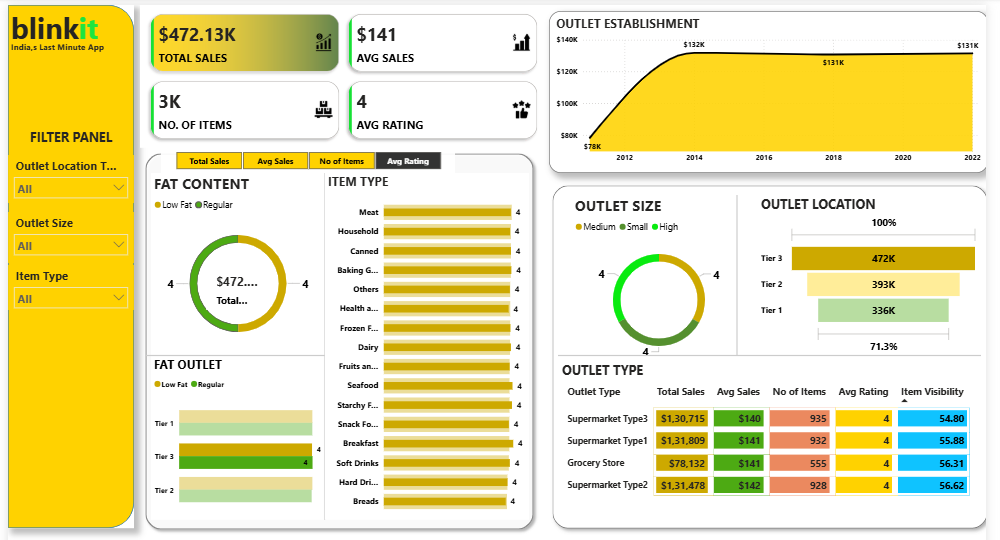

This screenshot's page, from the dashboard's own definition file:
{"tool":"powerbi","page":{"name":"Blinkit ","canvas":[1630,920],"ordinal":0},"visuals":[{"type":"shape","box":[0,0,210,871.7],"z":0},{"type":"textbox","box":[254.4,508.8,184.1,67.3],"z":1000},{"type":"textbox","box":[0,0,163.9,74.8],"z":2000},{"type":"textbox","box":[0,55.7,184.6,38.2],"z":3000},{"type":"cardVisual","fields":{"Data":["BlinkIT Grocery Data.Total Sales","BlinkIT Grocery Data.Avg Sales","BlinkIT Grocery Data.No of Items","BlinkIT Grocery Data.Avg Rating"]},"box":[220,0,681.7,238.3],"z":4000},{"type":"textbox","box":[239,576,574,174],"z":5000},{"type":"textbox","box":[239,576,574,174],"z":6000},{"type":"textbox","box":[239,576,574,174],"z":7000},{"type":"shape","box":[220,238.3,665,645],"z":8000},{"type":"donutChart","title":" FAT CONTENT","fields":{"Y":["BlinkIT Grocery Data.Avg Rating"],"Category":["BlinkIT Grocery Data.Item Fat Content"]},"box":[238.3,280,290,305],"z":9000},{"type":"slicer","fields":{"Values":["Metrics.Metrics"]},"box":[255,238.3,490,41.7],"z":10000},{"type":"cardVisual","fields":{"Data":["BlinkIT Grocery Data.Total Sales"]},"box":[330,430,105,78.3],"z":11000},{"type":"clusteredBarChart","title":"FAT OUTLET","fields":{"Y":["BlinkIT Grocery Data.Avg Rating"],"Category":["BlinkIT Grocery Data.Outlet Location Type"],"Series":["BlinkIT Grocery Data.Item Fat Content"]},"box":[238.3,585,288.3,273.3],"z":12000},{"type":"shape","box":[230,546.7,298.3,75],"z":13000},{"type":"shape","box":[476.7,280,103.3,578.3],"z":14000},{"type":"barChart","title":"ITEM TYPE","fields":{"Y":["BlinkIT Grocery Data.Avg Rating"],"Category":["BlinkIT Grocery Data.Item Type"]},"box":[528.3,280,340,578.3],"z":15000},{"type":"lineChart","title":" OUTLET ESTABLISHMENT","fields":{"Y":["BlinkIT Grocery Data.Total Sales"],"Category":["BlinkIT Grocery Data.Outlet Establishment Year"]},"box":[901.7,10,731.7,270],"z":16000},{"type":"shape","box":[896.7,290,746.7,593.3],"z":17000},{"type":"donutChart","title":"OUTLET SIZE","fields":{"Y":["BlinkIT Grocery Data.Avg Rating"],"Category":["BlinkIT Grocery Data.Outlet Size"]},"box":[940,316.7,290,286.7],"z":18000},{"type":"shape","box":[1163.3,316.7,103.3,268.3],"z":19000},{"type":"funnel","title":" OUTLET LOCATION","fields":{"Y":["Sum(BlinkIT Grocery Data.Sales)"],"Category":["BlinkIT Grocery Data.Outlet Location Type"]},"box":[1250,316.7,371.7,270],"z":20000},{"type":"pivotTable","title":"OUTLET TYPE","fields":{"Rows":["BlinkIT Grocery Data.Outlet Type"],"Values":["BlinkIT Grocery Data.Total Sales","BlinkIT Grocery Data.Avg Sales","BlinkIT Grocery Data.No of Items","BlinkIT Grocery Data.Avg Rating","Sum(BlinkIT Grocery Data.Item Visibility)"]},"box":[918.3,593.3,703.3,255],"z":21000},{"type":"shape","box":[916.7,546.7,705,75],"z":22000},{"type":"slicer","fields":{"Values":["BlinkIT Grocery Data.Outlet Location Type"]},"box":[0,250,210,80],"z":23000},{"type":"slicer","fields":{"Values":["BlinkIT Grocery Data.Outlet Size"]},"box":[0,345,210,85],"z":24000},{"type":"slicer","fields":{"Values":["BlinkIT Grocery Data.Item Type"]},"box":[0,433.3,210,75],"z":25000},{"type":"textbox","box":[1644,10,236,270],"z":26000},{"type":"textbox","box":[31.7,200,155,38.3],"z":27000}]}

Visuals, with their boxes on the page's 1630x920 design canvas (x1, y1, x2, y2). These are canvas units, not pixel positions in the 1000x540 screenshot, which may show the page scaled, cropped or inside an application window:
shape: l=0, t=0, r=210, b=872
textbox: l=254, t=509, r=438, b=576
textbox: l=0, t=0, r=164, b=75
textbox: l=0, t=56, r=185, b=94
cardVisual - BlinkIT Grocery Data.Total Sales x BlinkIT Grocery Data.Avg Sales: l=220, t=0, r=902, b=238
textbox: l=239, t=576, r=813, b=750
textbox: l=239, t=576, r=813, b=750
textbox: l=239, t=576, r=813, b=750
shape: l=220, t=238, r=885, b=883
" FAT CONTENT" donutChart: l=238, t=280, r=528, b=585
slicer - Metrics.Metrics: l=255, t=238, r=745, b=280
cardVisual - BlinkIT Grocery Data.Total Sales: l=330, t=430, r=435, b=508
"FAT OUTLET" clusteredBarChart: l=238, t=585, r=527, b=858
shape: l=230, t=547, r=528, b=622
shape: l=477, t=280, r=580, b=858
"ITEM TYPE" barChart: l=528, t=280, r=868, b=858
" OUTLET ESTABLISHMENT" lineChart: l=902, t=10, r=1633, b=280
shape: l=897, t=290, r=1643, b=883
"OUTLET SIZE" donutChart: l=940, t=317, r=1230, b=603
shape: l=1163, t=317, r=1267, b=585
" OUTLET LOCATION" funnel: l=1250, t=317, r=1622, b=587
"OUTLET TYPE" pivotTable: l=918, t=593, r=1622, b=848
shape: l=917, t=547, r=1622, b=622
slicer - BlinkIT Grocery Data.Outlet Location Type: l=0, t=250, r=210, b=330
slicer - BlinkIT Grocery Data.Outlet Size: l=0, t=345, r=210, b=430
slicer - BlinkIT Grocery Data.Item Type: l=0, t=433, r=210, b=508
textbox: l=1644, t=10, r=1880, b=280
textbox: l=32, t=200, r=187, b=238
